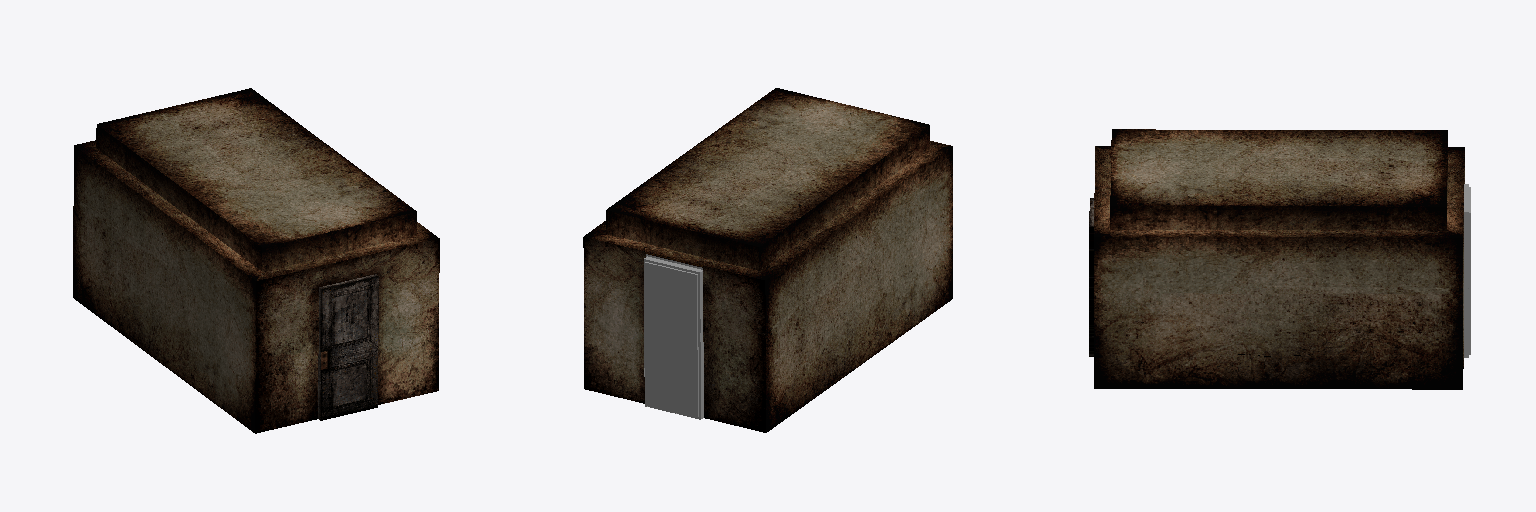
3 views of the same model, side by side, from view 1: azimuth 30°, elevation 25°; view 2: azimuth 150°, elevation 25°; view 3: azimuth 270°, elevation 25° (orthographic).
Size of the model in its own units: 3.55 by 3.19 by 6.22.
Materials: 8 (6 with a texture image).